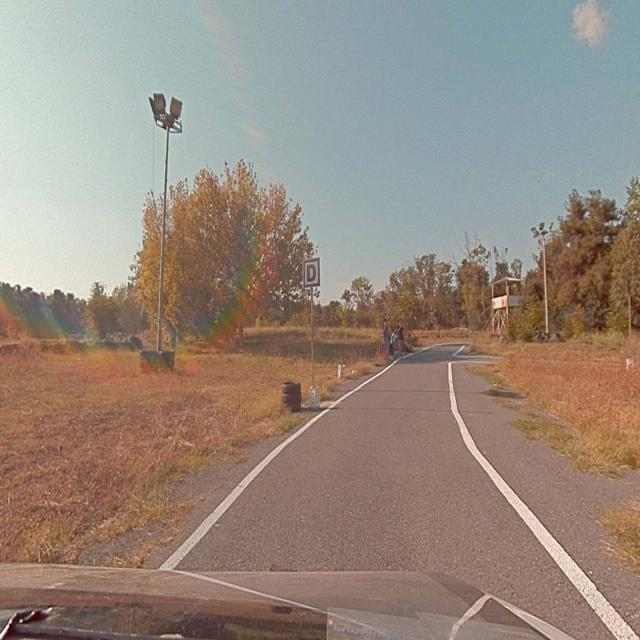durak: (303, 259, 320, 286)
